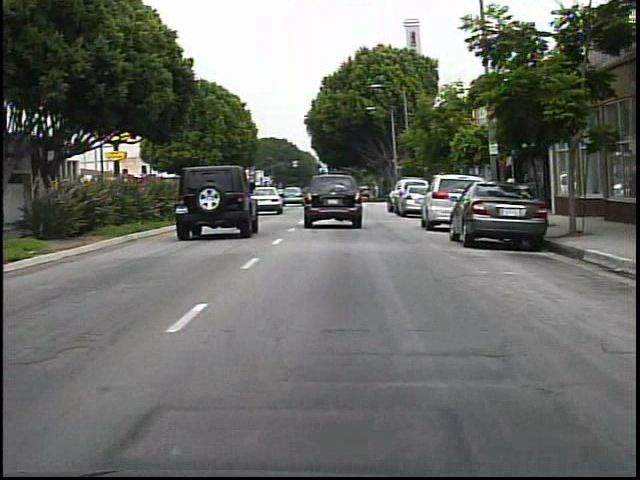person: (502, 164, 525, 219)
